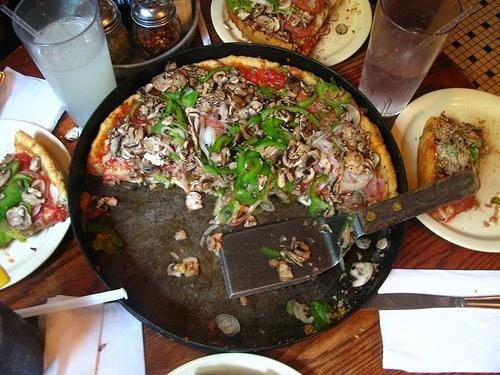bell pepper: (0, 178, 30, 219), (0, 214, 32, 248), (274, 106, 322, 127), (308, 180, 332, 218), (86, 224, 124, 248), (228, 176, 258, 204), (314, 76, 340, 108), (198, 66, 242, 84), (310, 300, 333, 334), (257, 162, 275, 202), (241, 156, 263, 186), (219, 200, 241, 224), (338, 214, 355, 242), (265, 117, 286, 138), (122, 102, 142, 124), (334, 92, 351, 116), (158, 88, 183, 104), (176, 91, 198, 108), (260, 246, 290, 258), (212, 136, 232, 154), (0, 160, 20, 178), (295, 93, 318, 108), (254, 140, 288, 150), (159, 99, 176, 118), (153, 174, 176, 188), (235, 148, 246, 177), (261, 124, 280, 140), (151, 118, 167, 135), (168, 131, 184, 148), (272, 162, 281, 191), (254, 86, 274, 99), (225, 0, 243, 14), (247, 114, 262, 130), (170, 120, 188, 133), (210, 166, 237, 174), (279, 180, 294, 194), (268, 86, 289, 96), (260, 108, 276, 121), (13, 174, 33, 184), (174, 103, 184, 122), (244, 150, 261, 161), (203, 164, 218, 176), (468, 146, 478, 162), (266, 0, 280, 11), (272, 116, 284, 128), (226, 124, 240, 134), (241, 3, 253, 14), (20, 201, 30, 214), (284, 8, 300, 16), (287, 301, 295, 315), (274, 124, 287, 132), (443, 141, 452, 152), (170, 152, 181, 161), (332, 119, 340, 131), (276, 66, 288, 74), (217, 186, 225, 196), (491, 196, 500, 204), (470, 153, 473, 167), (363, 108, 368, 114), (473, 145, 479, 149)
mushroom: (6, 205, 32, 230), (350, 262, 374, 287), (337, 104, 361, 127), (282, 145, 304, 168), (260, 146, 284, 166), (150, 72, 174, 92), (21, 188, 46, 206), (337, 125, 358, 146), (166, 72, 188, 92), (144, 134, 166, 154), (232, 114, 250, 138), (182, 256, 200, 278), (256, 16, 280, 32), (346, 160, 372, 174), (300, 150, 320, 168), (185, 192, 204, 210), (344, 150, 364, 167), (294, 166, 314, 183), (277, 262, 294, 282), (214, 147, 230, 167), (328, 174, 342, 196), (147, 104, 166, 120), (110, 135, 123, 158), (320, 151, 332, 175), (286, 76, 302, 94), (122, 140, 142, 154), (274, 109, 293, 123), (86, 195, 100, 213), (199, 172, 220, 184), (212, 71, 228, 86), (0, 168, 12, 188), (132, 126, 145, 144), (352, 190, 366, 206), (185, 106, 203, 118), (354, 238, 372, 250), (167, 264, 182, 278), (296, 194, 312, 206), (290, 18, 306, 30), (3, 153, 16, 167), (29, 156, 40, 172), (257, 174, 268, 190), (346, 138, 359, 151), (248, 101, 262, 113), (64, 128, 78, 140), (174, 228, 188, 240), (294, 249, 310, 259), (302, 11, 314, 24), (117, 123, 129, 136), (237, 10, 251, 21), (278, 169, 286, 188), (233, 108, 248, 118), (376, 238, 388, 250), (336, 24, 349, 35), (160, 116, 174, 126), (234, 88, 248, 98), (228, 66, 239, 78), (358, 141, 368, 154), (139, 104, 149, 117), (180, 64, 198, 71), (228, 84, 248, 90), (464, 136, 481, 143), (436, 138, 450, 146), (208, 92, 222, 100), (264, 3, 274, 14), (219, 76, 230, 86), (304, 84, 317, 92), (300, 241, 310, 251), (215, 90, 225, 100), (184, 163, 196, 171), (372, 154, 380, 166), (440, 120, 452, 128), (189, 78, 198, 87), (354, 127, 365, 134), (279, 16, 284, 30), (282, 6, 292, 12), (208, 82, 216, 88), (451, 140, 462, 144), (203, 82, 210, 88), (252, 97, 258, 101)
